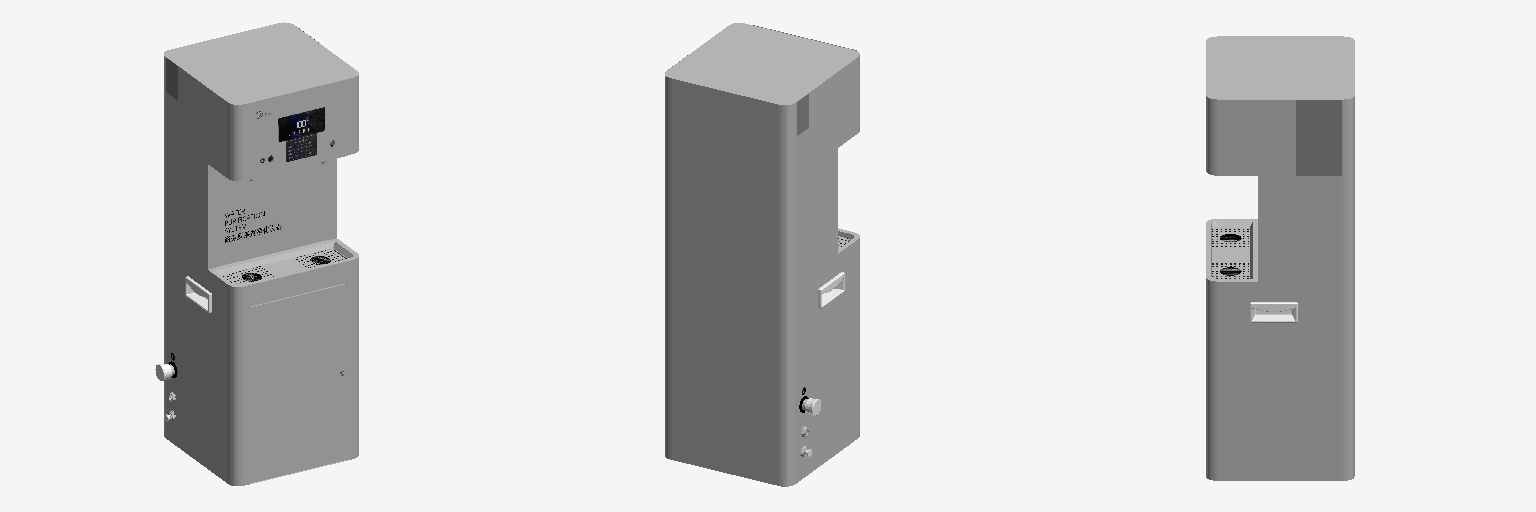
3 renders of one model, left to right at view 1: azimuth 30°, elevation 25°; view 2: azimuth 150°, elevation 25°; view 3: azimuth 270°, elevation 25°, orthographic.
Visible parts, largest first — view 1: Box001; view 2: Box001; view 3: Box001.
Boxes of the visible parts, x1,y1,x2,y2 form: Box001: [155, 22, 358, 485]; Box001: [665, 23, 859, 486]; Box001: [1206, 36, 1354, 480].
Size of the model in its own units: 61.88 by 155 by 55.35.
13 materials, 8 textured.